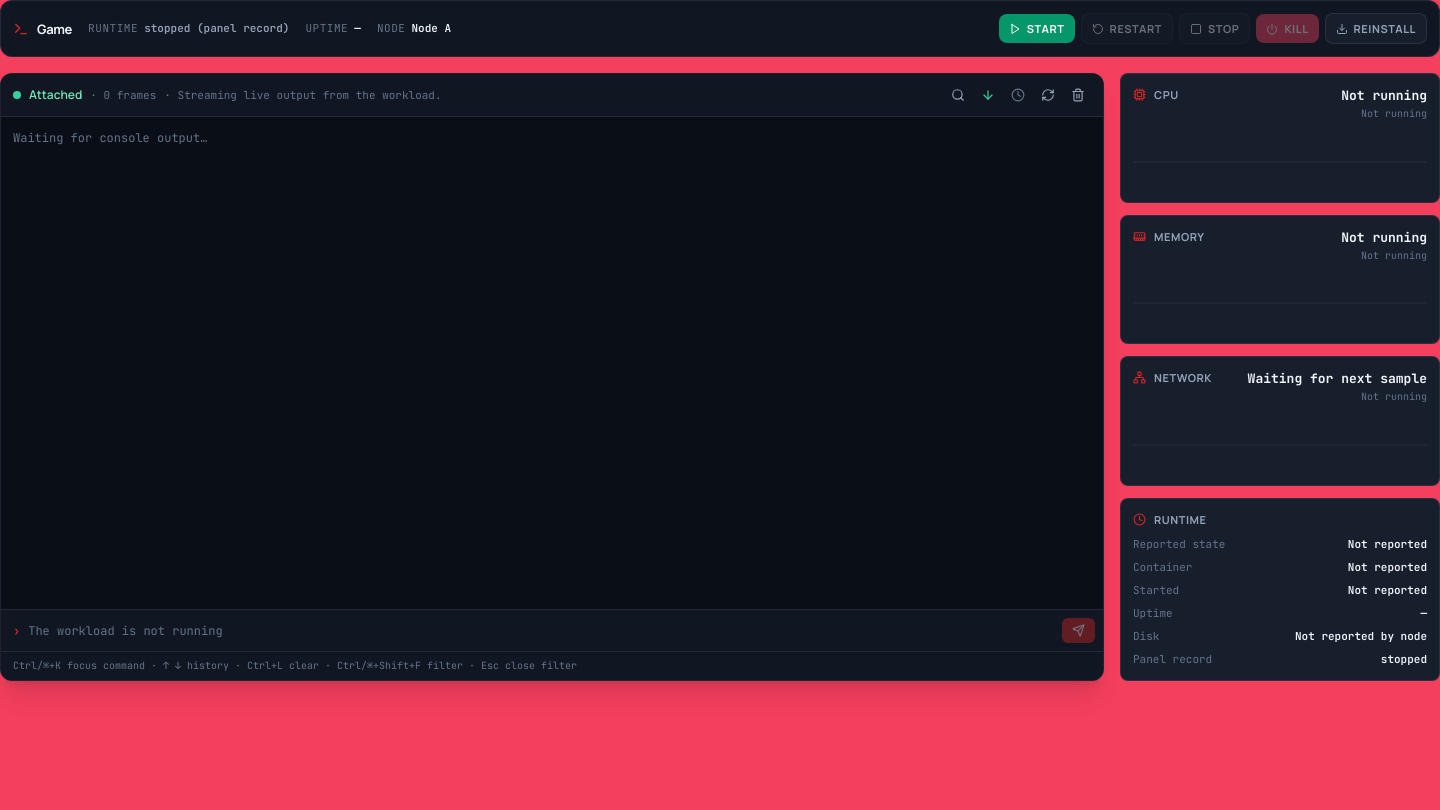
Test case: console-view power operation progress › tracks the durable operation the API created and reports its terminal status
Step 1. Click the button with aria-label "Start workload" → (1037, 28), box [999, 14, 1075, 43]
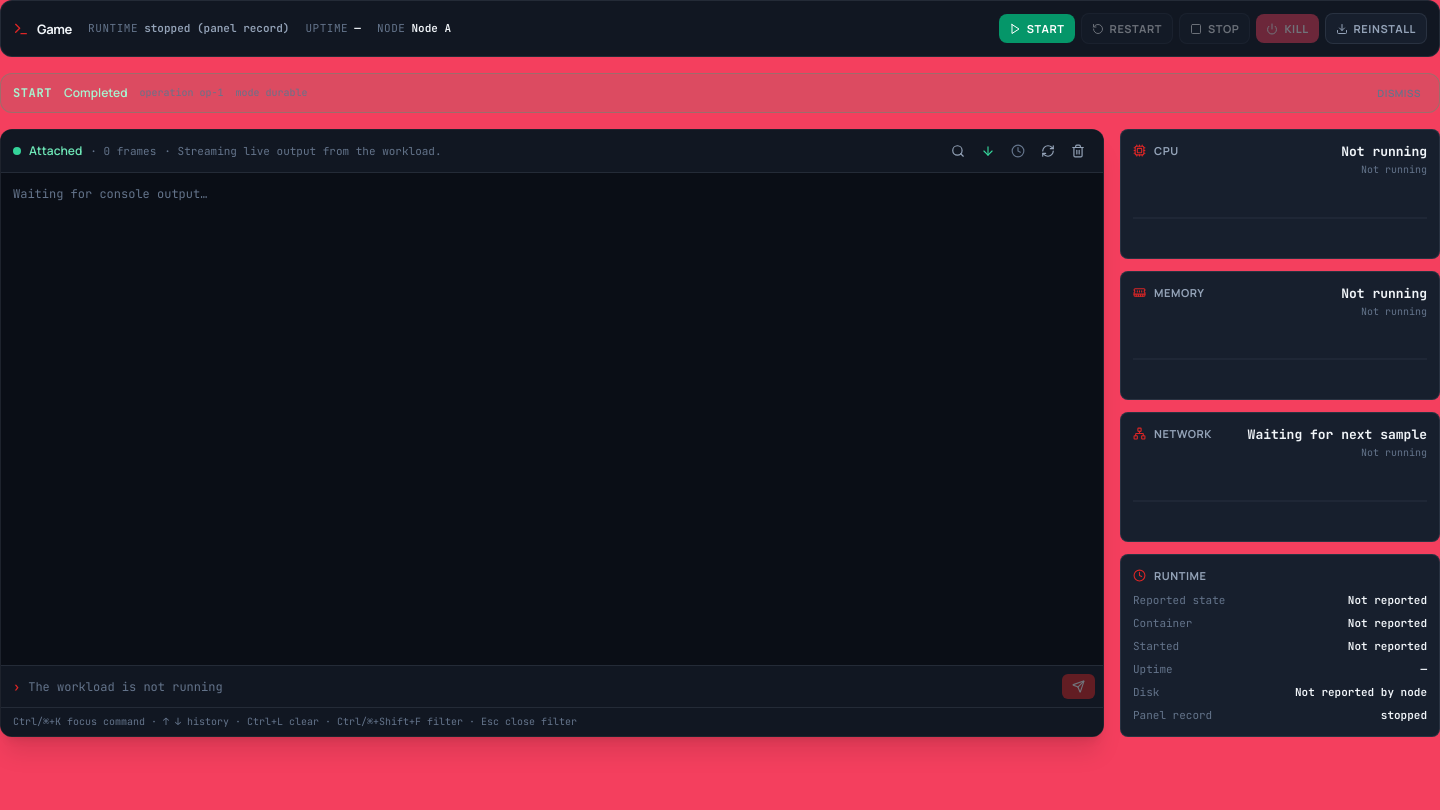
Expected: the text "operation op-1" is shown, [140, 84, 224, 102]
Expected: the text "Completed" is shown, [64, 84, 128, 102]
